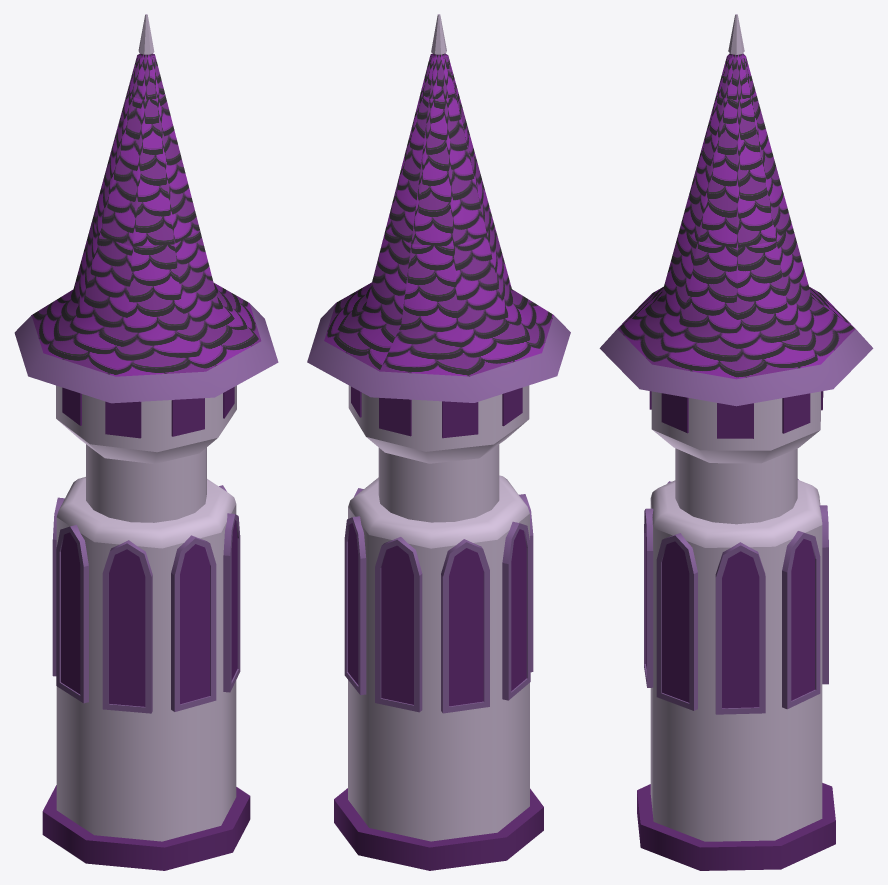
File: Prefab_Wonder_castle.fbx
The picture shows the model from 3 angles, left to right: view 1: azimuth 30°, elevation 25°; view 2: azimuth 150°, elevation 25°; view 3: azimuth 270°, elevation 25°; orthographic projection.
Parts seen in each view (by area): view 1: Wonder_castle_001; view 2: Wonder_castle_001; view 3: Wonder_castle_001.
Boxes of the visible parts, box(x1,y1,x2,y2) form: Wonder_castle_001: box(14, 14, 278, 870); Wonder_castle_001: box(307, 14, 570, 870); Wonder_castle_001: box(599, 14, 873, 870).
Bounding box in the file's own units: 201 × 661 × 201.
